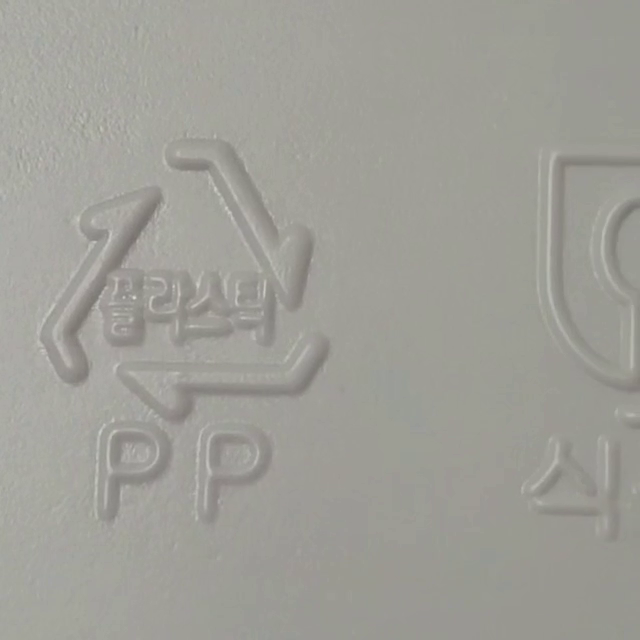Plastic: (38, 136, 327, 419)
